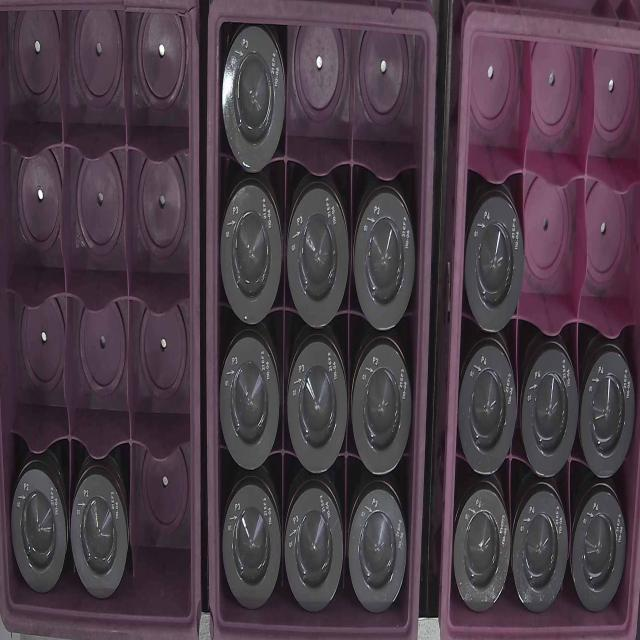P2: (71, 466, 129, 606), (9, 462, 70, 584)
P3: (288, 179, 348, 324), (355, 186, 413, 332), (222, 184, 282, 324), (225, 32, 285, 170), (288, 340, 346, 478), (353, 342, 410, 478), (285, 487, 345, 614), (223, 482, 282, 610), (350, 488, 408, 616), (222, 340, 277, 469)
P4: (468, 195, 522, 332), (522, 344, 578, 476), (460, 344, 518, 468), (513, 486, 568, 615), (582, 350, 636, 480), (456, 485, 510, 614), (573, 493, 628, 615)
